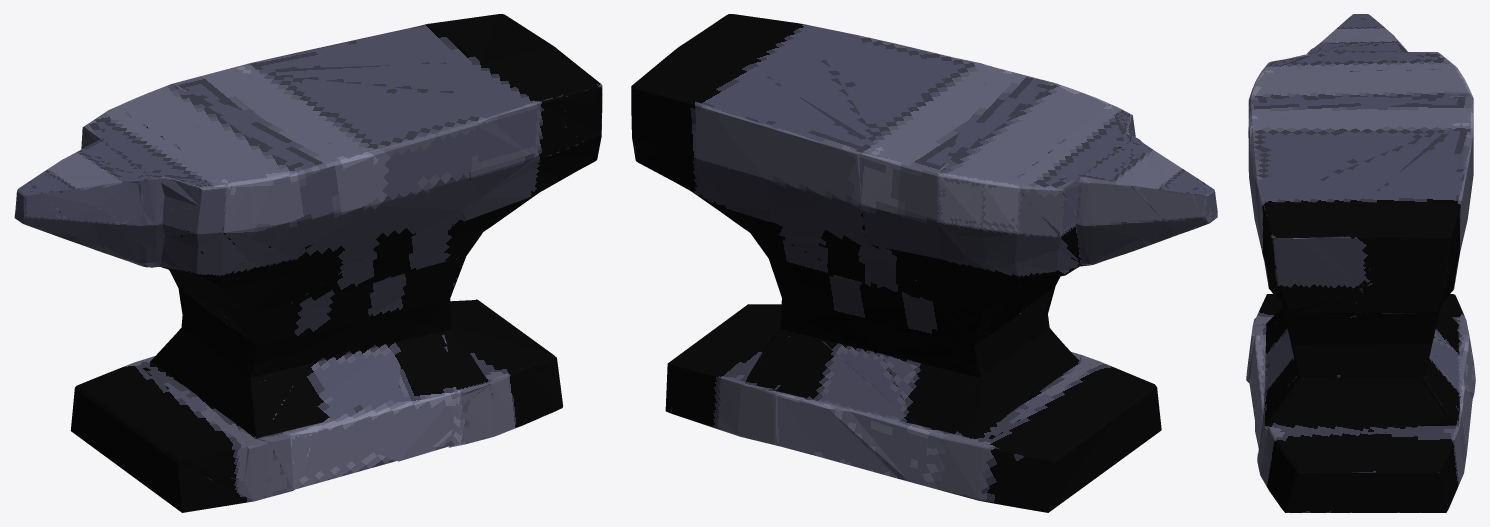
The picture shows the model from 3 angles, left to right: view 1: azimuth 30°, elevation 25°; view 2: azimuth 150°, elevation 25°; view 3: azimuth 270°, elevation 25°; orthographic projection. The views are drawn at different scales.
Parts seen in each view (by area): view 1: OBJ0d7; view 2: OBJ0d7; view 3: OBJ0d7.
Part boxes in pixels (bbox=[...]): OBJ0d7: bbox=[14, 14, 602, 512]; OBJ0d7: bbox=[631, 14, 1217, 512]; OBJ0d7: bbox=[1246, 14, 1475, 512].
Bounding box in the file's own units: 0.317 × 0.1817 × 0.1287.
1 material, 1 textured.
